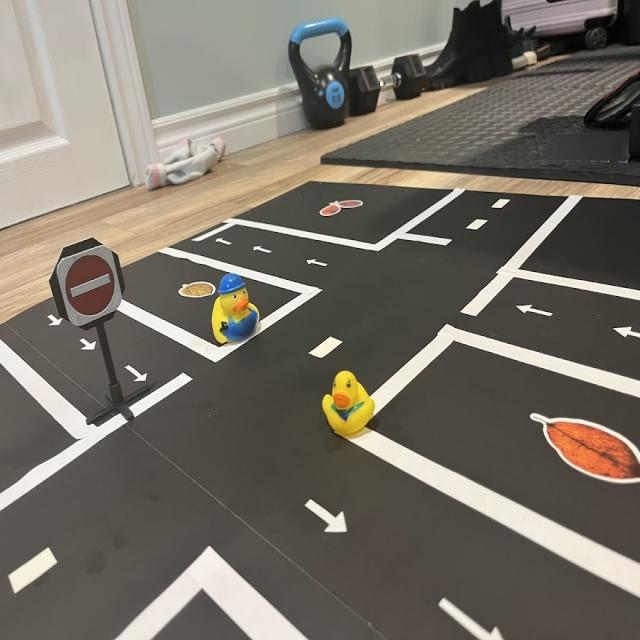duck_regular: (320, 367, 378, 439)
duck_specialty: (210, 269, 265, 347)
road_oneway: (435, 592, 508, 640), (304, 492, 353, 540), (517, 297, 555, 324), (610, 319, 640, 343), (124, 362, 150, 388), (302, 253, 332, 273), (250, 240, 277, 259), (45, 310, 65, 331), (80, 335, 98, 355), (212, 234, 236, 248)
sign_noentry: (56, 242, 126, 332)
